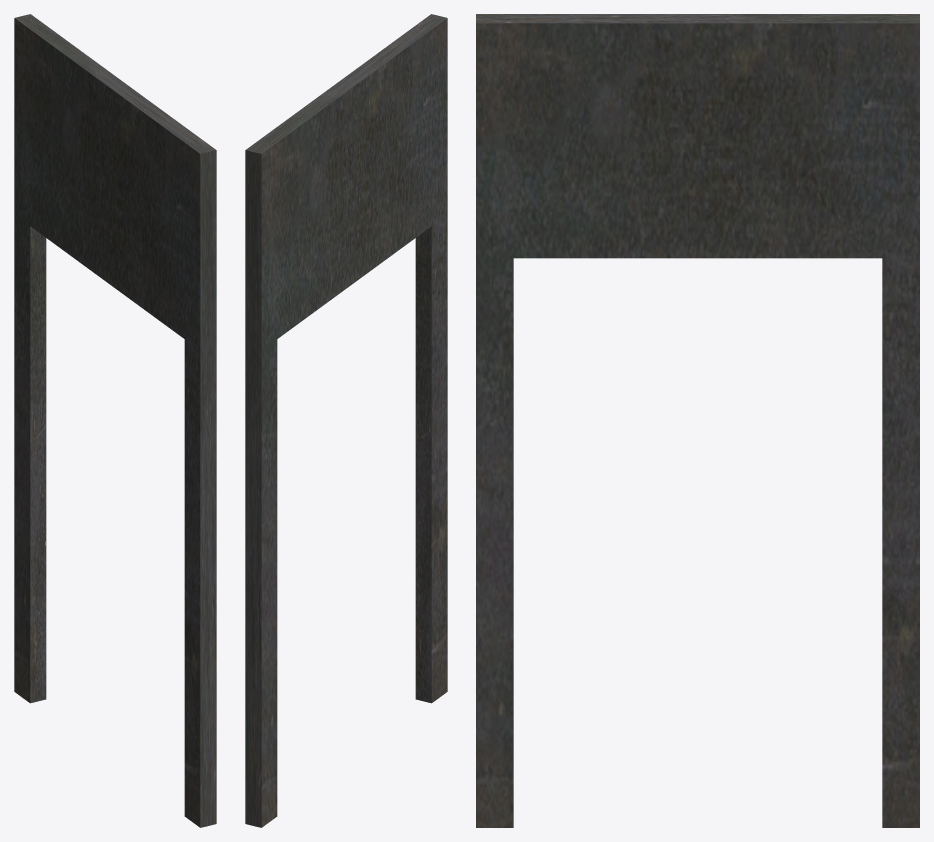
File: door_frame.fbx
3 renders of one model, left to right at view 1: azimuth 30°, elevation 25°; view 2: azimuth 150°, elevation 25°; view 3: azimuth 270°, elevation 25°, orthographic. The views are drawn at different scales.
Parts seen in each view (by area): view 1: Box001; view 2: Box001; view 3: Box001.
Part boxes in pixels (x1,y1,x2,y2): Box001: (14,14,216,827); Box001: (245,14,447,827); Box001: (476,14,919,827).
Size of the model in its own units: 0.05 by 2 by 1.
1 material, 1 textured.
